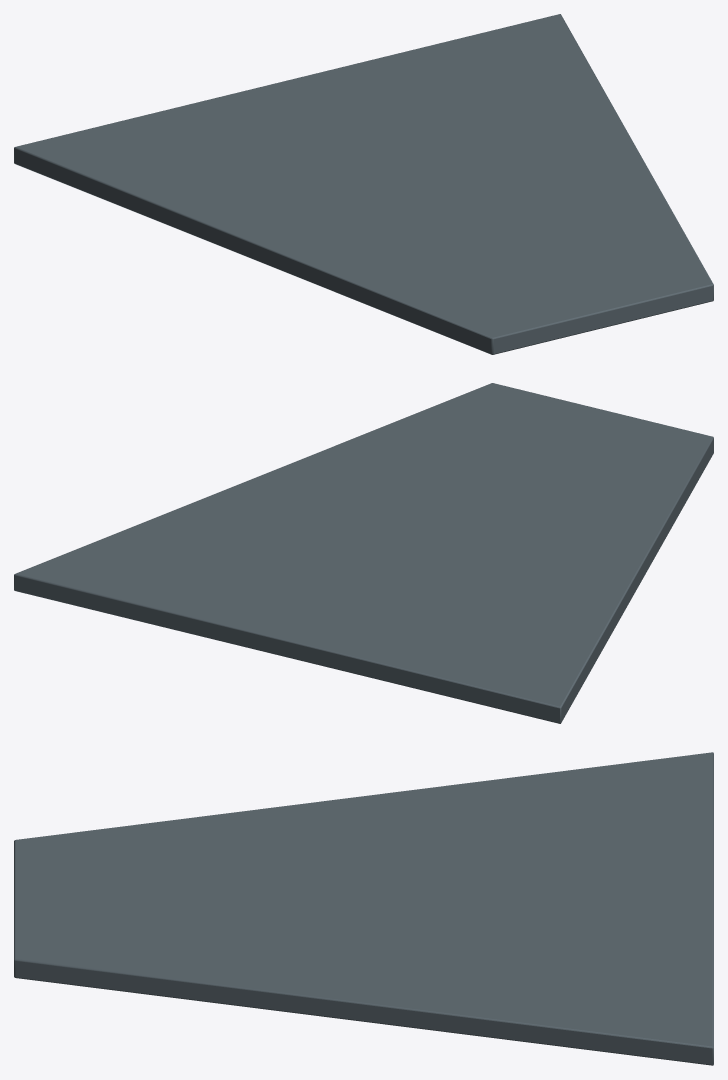
3 views of the same model, one above another, from view 1: azimuth 30°, elevation 25°; view 2: azimuth 150°, elevation 25°; view 3: azimuth 270°, elevation 25° (orthographic). The views are drawn at different scales.
Parts seen in each view (by area): view 1: Cube.002; view 2: Cube.002; view 3: Cube.002.
Part boxes in pixels (x1,y1,x2,y2): Cube.002: [14, 14, 713, 354]; Cube.002: [14, 383, 713, 723]; Cube.002: [14, 752, 713, 1065].
Bounding box in the file's own units: 2.64 × 0.0791 × 2.64.
Materials: 1 (1 with a texture image).
